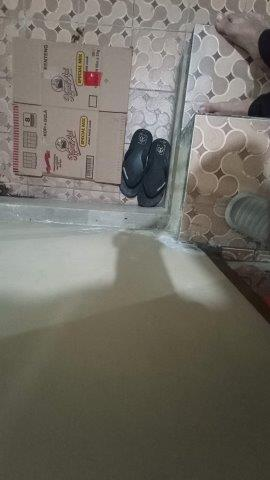kardus: (14, 40, 131, 183)
